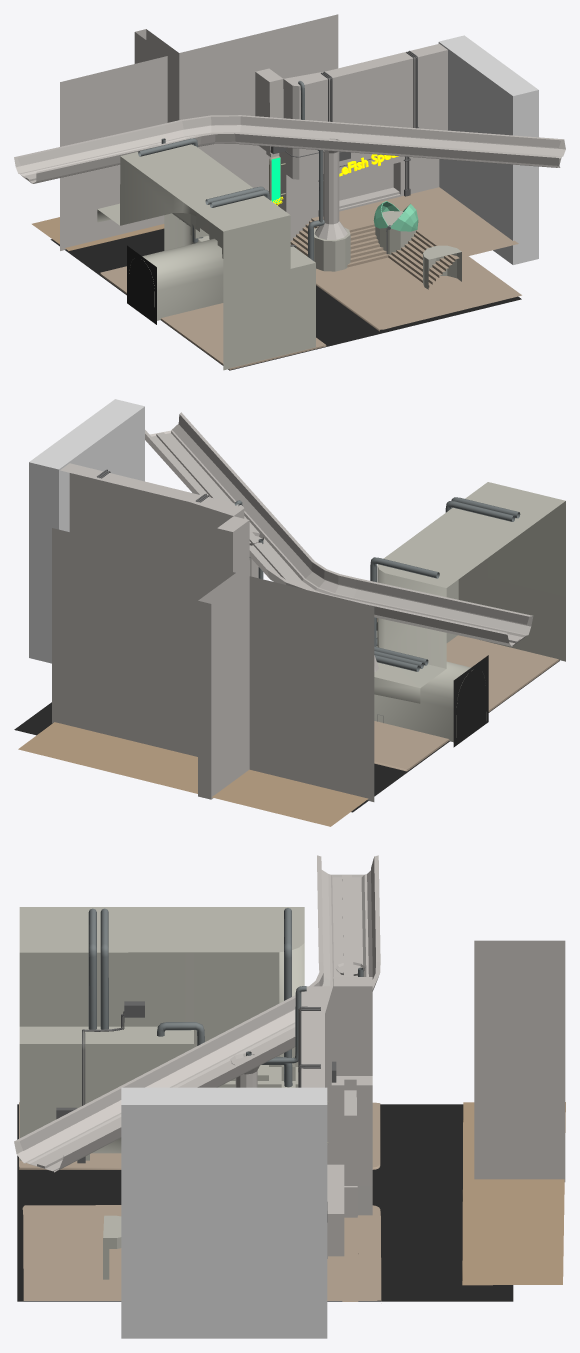
Rendered from Exteria.fbx.
The picture shows the model from 3 angles, top to bottom: view 1: azimuth 30°, elevation 25°; view 2: azimuth 150°, elevation 25°; view 3: azimuth 270°, elevation 25°; orthographic projection. The views are drawn at different scales.
Parts seen in each view (by area): view 1: Cube.003, Cube.011, Cube.013, Cube.017, Cube.012, Cube.004, Cube.016, Plane, Cube, Plane.001, Cylinder.003, Cylinder.001 (+5 smaller); view 2: Cube.011, Cube.003, Cube.017, Cube.013, Cube.012, Cube.010, Cube, Plane.001, Cube.001, Plane, NurbsCurve.011, NurbsCurve.008; view 3: Cube.012, Cube.003, Plane, Cube.011, Cube.017, Cube.013, Cube.004, Cube.010, NurbsCurve.008, NurbsCurve.009, Cube, Cylinder.002 (+3 smaller).
Boxes of the visible parts, x1=… form: Cube.003: x1=97, y1=144, x2=315, y2=370; Cube.011: x1=60, y1=14, x2=338, y2=250; Cube.013: x1=255, y1=43, x2=447, y2=240; Cube.017: x1=14, y1=115, x2=565, y2=183; Cube.012: x1=438, y1=35, x2=538, y2=264; Cube.004: x1=316, y1=256, x2=521, y2=331; Cube.016: x1=290, y1=187, x2=518, y2=287; Plane: x1=50, y1=228, x2=521, y2=370; Cube: x1=161, y1=303, x2=326, y2=369; Plane.001: x1=127, y1=245, x2=156, y2=324; Cylinder.003: x1=314, y1=138, x2=347, y2=239; Cylinder.001: x1=314, y1=227, x2=350, y2=271; Cube.011: x1=52, y1=528, x2=374, y2=801; Cube.003: x1=374, y1=482, x2=565, y2=742; Cube.017: x1=145, y1=412, x2=533, y2=646; Cube.013: x1=60, y1=463, x2=249, y2=585; Cube.012: x1=29, y1=399, x2=144, y2=663; Cube.010: x1=18, y1=722, x2=368, y2=826; Cube: x1=446, y1=635, x2=559, y2=711; Plane.001: x1=453, y1=655, x2=488, y2=747; Cube.001: x1=374, y1=721, x2=449, y2=771; Plane: x1=14, y1=622, x2=559, y2=812; NurbsCurve.011: x1=370, y1=557, x2=439, y2=646; NurbsCurve.008: x1=445, y1=501, x2=515, y2=521; Cube.012: x1=121, y1=1087, x2=327, y2=1338; Cube.003: x1=19, y1=907, x2=304, y2=1160; Plane: x1=17, y1=1104, x2=513, y2=1301; Cube.011: x1=474, y1=940, x2=565, y2=1181; Cube.017: x1=14, y1=855, x2=380, y2=1172; Cube.013: x1=301, y1=977, x2=372, y2=1258; Cube.004: x1=22, y1=1205, x2=381, y2=1301; Cube.010: x1=462, y1=1102, x2=565, y2=1285; NurbsCurve.008: x1=100, y1=908, x2=108, y2=1029; NurbsCurve.009: x1=88, y1=908, x2=96, y2=1029; Cube: x1=19, y1=1102, x2=121, y2=1169; Cylinder.002: x1=103, y1=1215, x2=121, y2=1279.
Bounding box in the file's own units: 3378 × 1290 × 2676.
